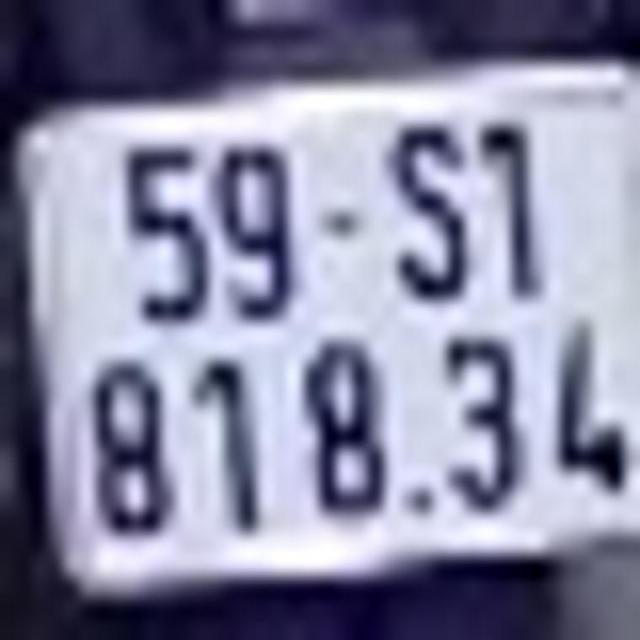1: (475, 107, 546, 303), (197, 352, 267, 538)
3: (439, 330, 524, 512)
4: (544, 327, 629, 492)
5: (125, 136, 214, 321)
8: (299, 330, 389, 521), (91, 348, 173, 538)
9: (212, 126, 292, 324)
S: (381, 112, 466, 300)
